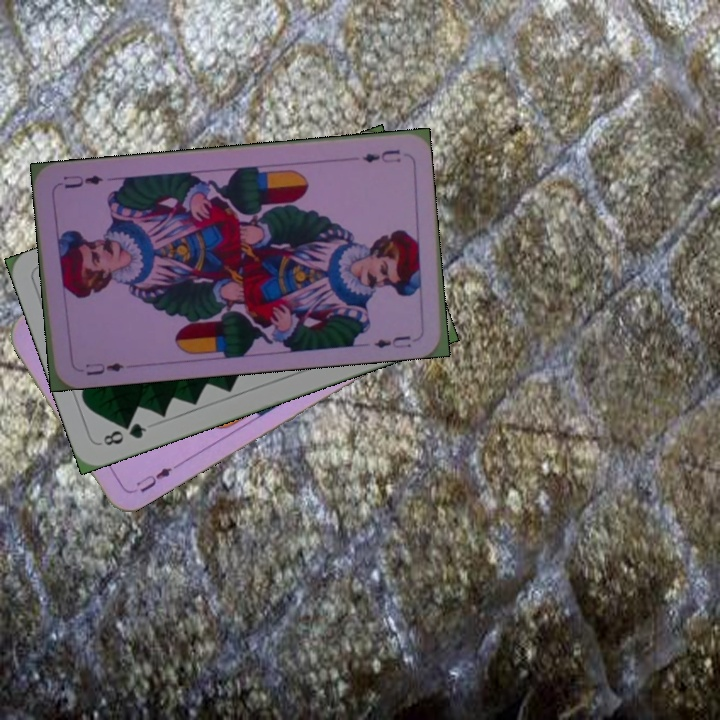EU: (132, 460, 180, 496), (359, 145, 404, 166), (81, 358, 127, 378)
G8: (99, 419, 149, 449)
